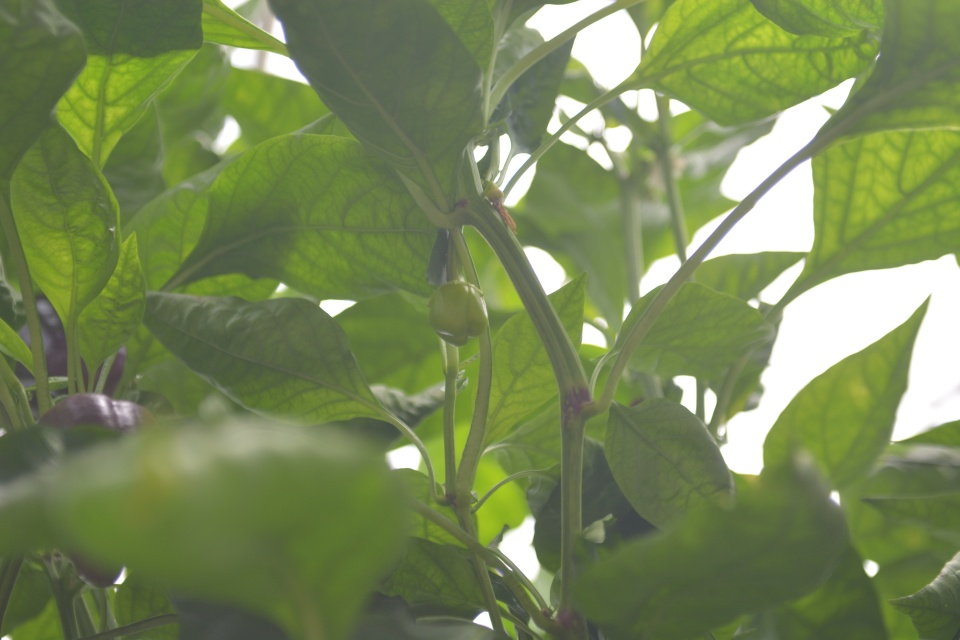fruit: (28, 391, 161, 591), (11, 294, 130, 424)
immature: (424, 277, 490, 349)
